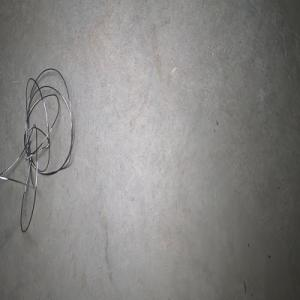Wire: (0, 68, 73, 232)
